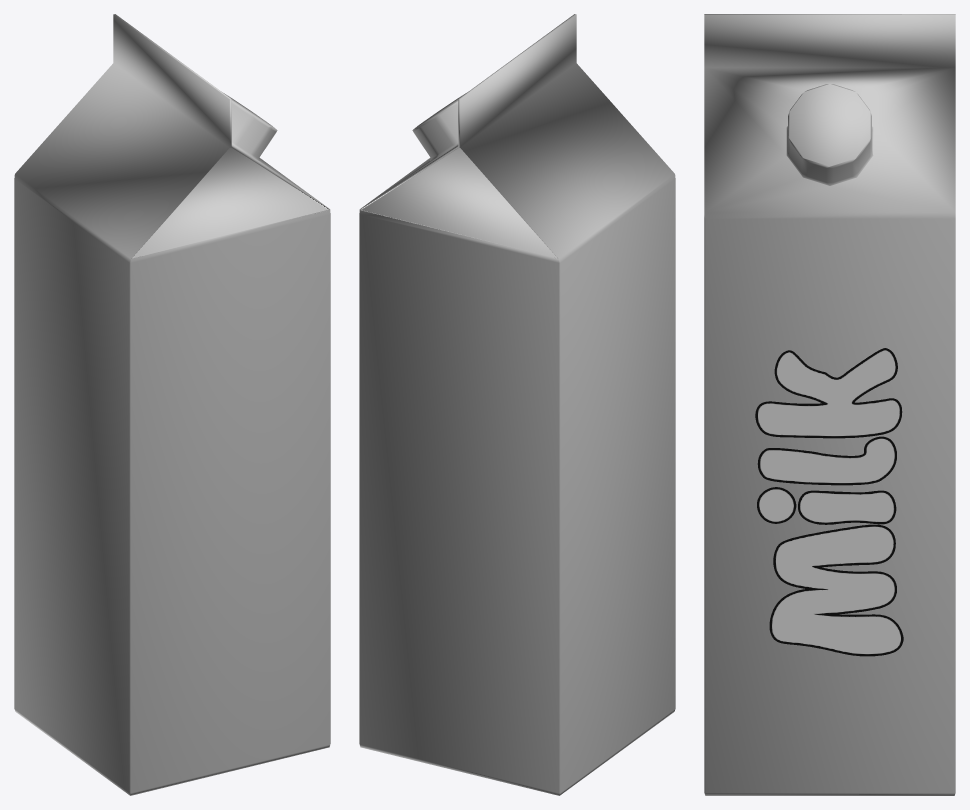
File: milk.fbx
3 renders of one model, left to right at view 1: azimuth 30°, elevation 25°; view 2: azimuth 150°, elevation 25°; view 3: azimuth 270°, elevation 25°, orthographic. The views are drawn at different scales.
Visible parts, largest first — view 1: milk_white.002; view 2: milk_white.002; view 3: milk_white.002.
Part boxes in pixels (left/top/right/bottom): milk_white.002: left=14, top=14, right=330, bottom=795; milk_white.002: left=359, top=14, right=675, bottom=795; milk_white.002: left=704, top=14, right=955, bottom=795.
Bounding box in the file's own units: 6.51 × 20.78 × 6.5.
